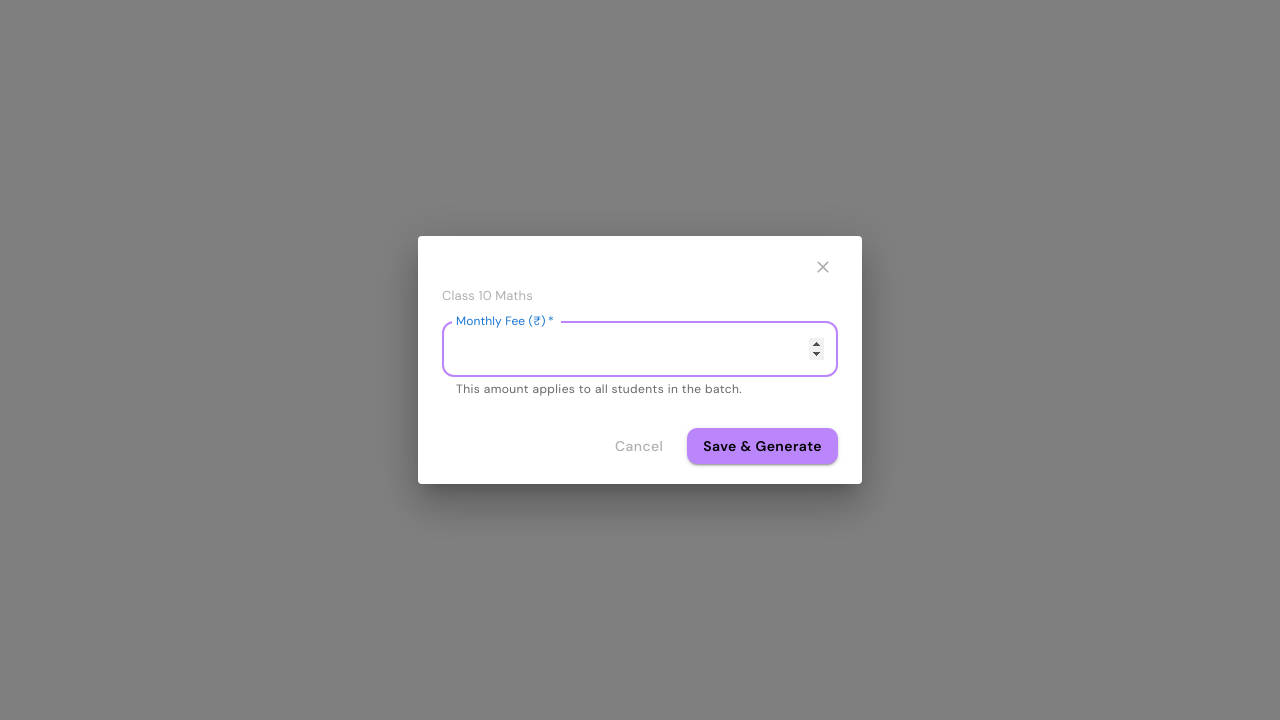
Test: FeeSetupModal › shows validation error for empty amount
Click the button "Save & Generate": [763, 446] box [687,428,838,464]
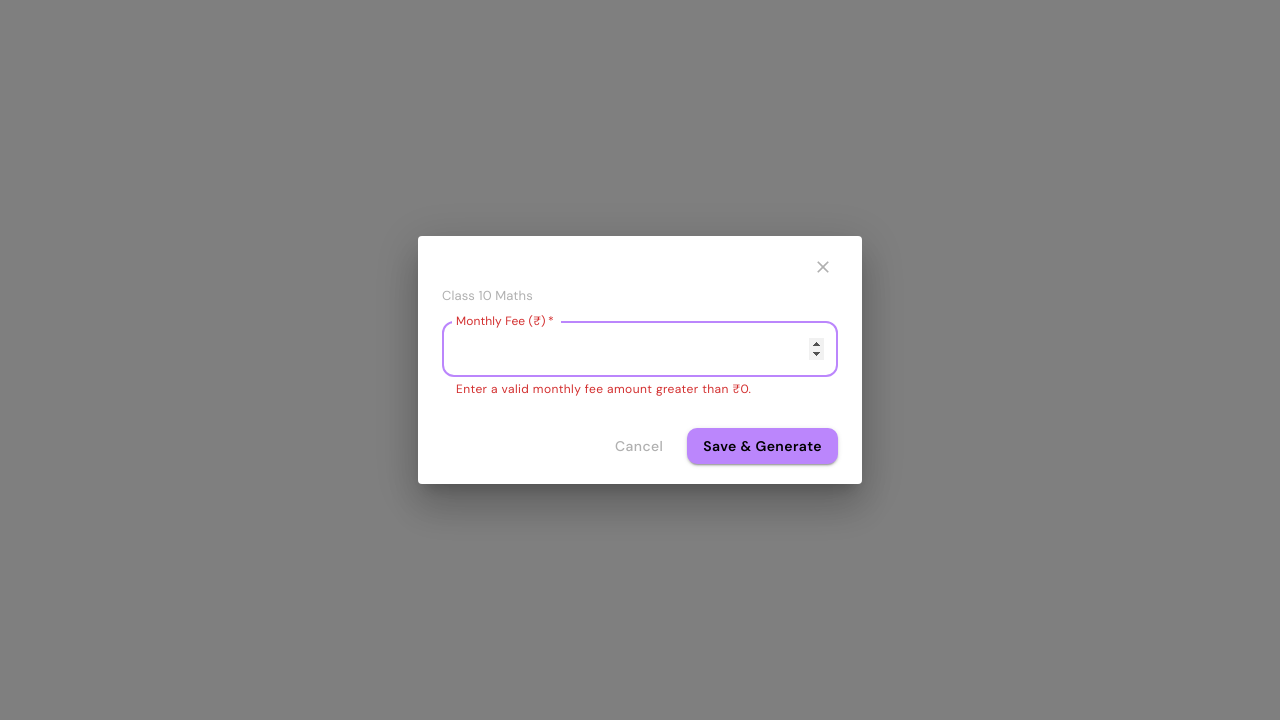
Expected: the text "Enter a valid monthly fee amount greater than ₹0." is shown, [456,381,751,397]
